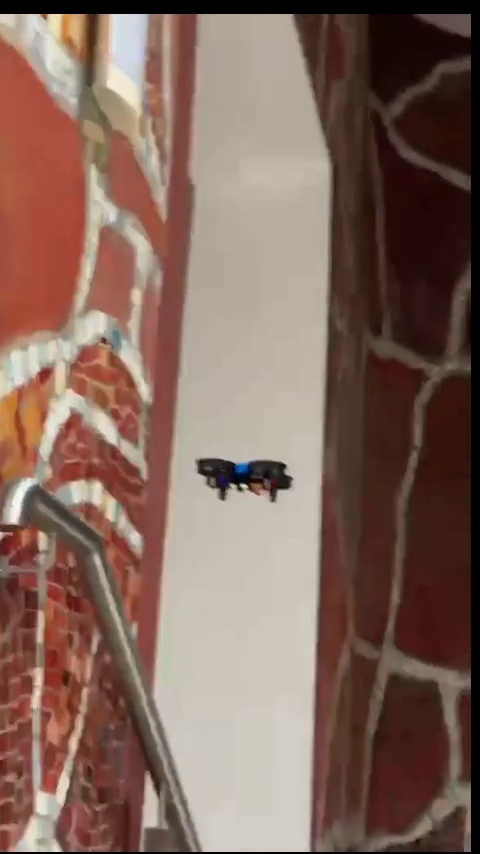drone: (189, 459, 298, 501)
